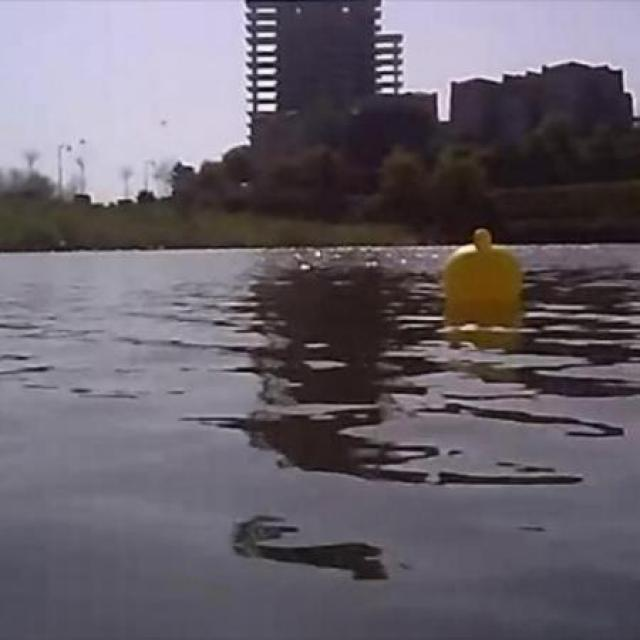buoy: (442, 226, 524, 314)
